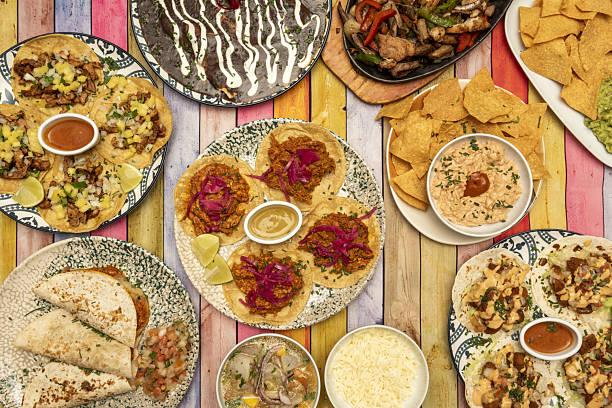Braised Crucian Carp: (173, 117, 379, 327), (0, 235, 198, 407), (1, 30, 170, 231), (445, 229, 609, 404), (386, 78, 540, 246)
